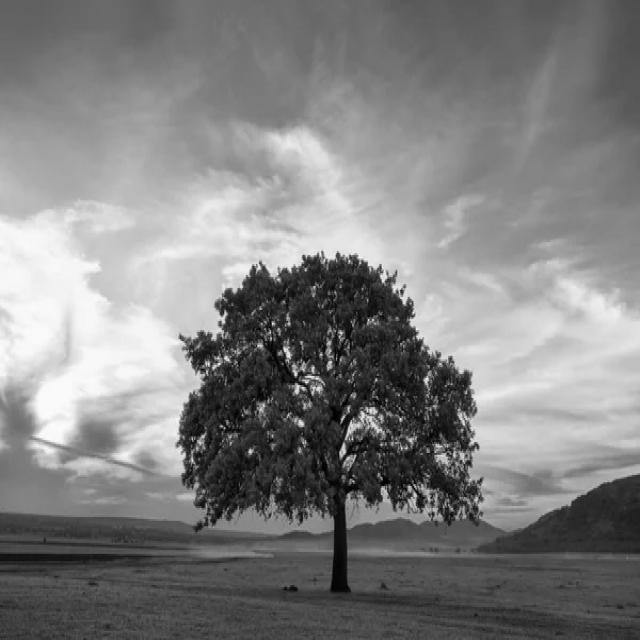Tree: (179, 255, 483, 594)
